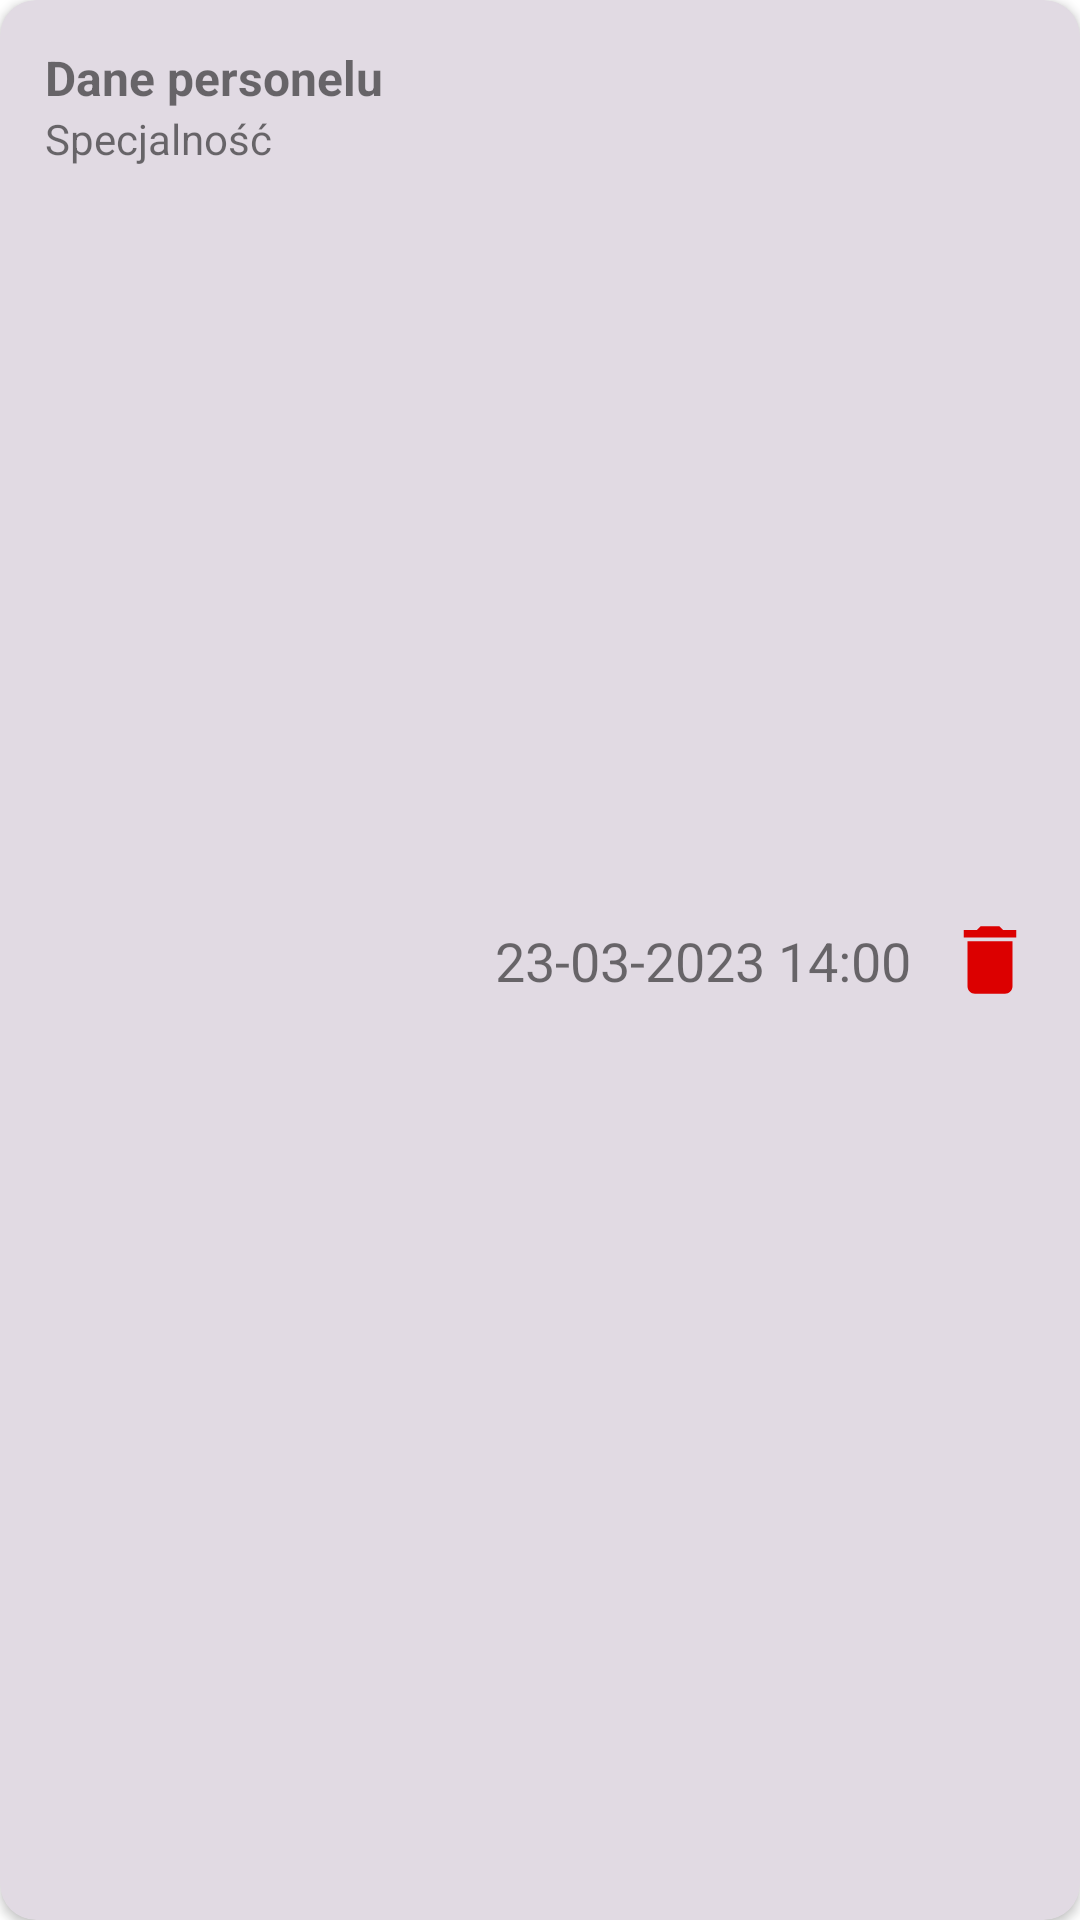

Where to tap for icons on this 1080px x 1920px app screen, as [x,y]:
delete: [990,960]
